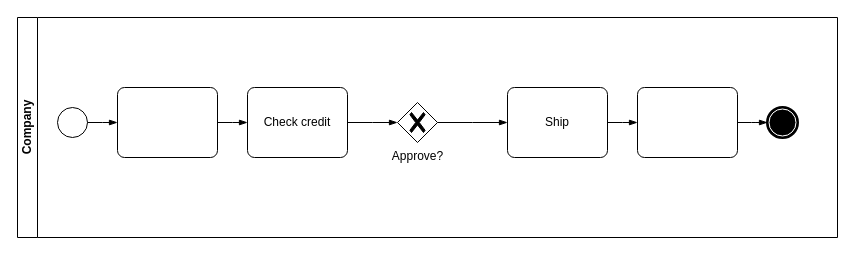
This 855x255 diagram has some shape labels left out. The shapes that lost their labels are listed below. From the top down, each one's centre as x and y in pixels, then its label:
the point at 167,122: Receive order
the point at 687,122: Invoice
